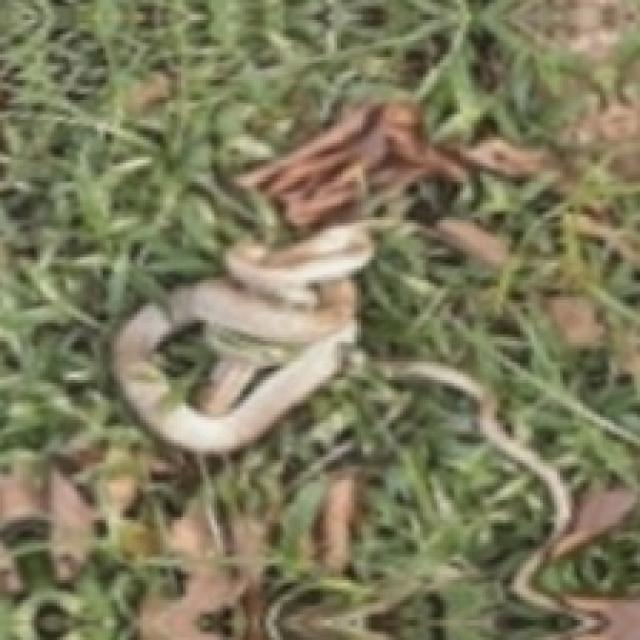paradise tree snake: (111, 103, 637, 637), (111, 223, 371, 451)
